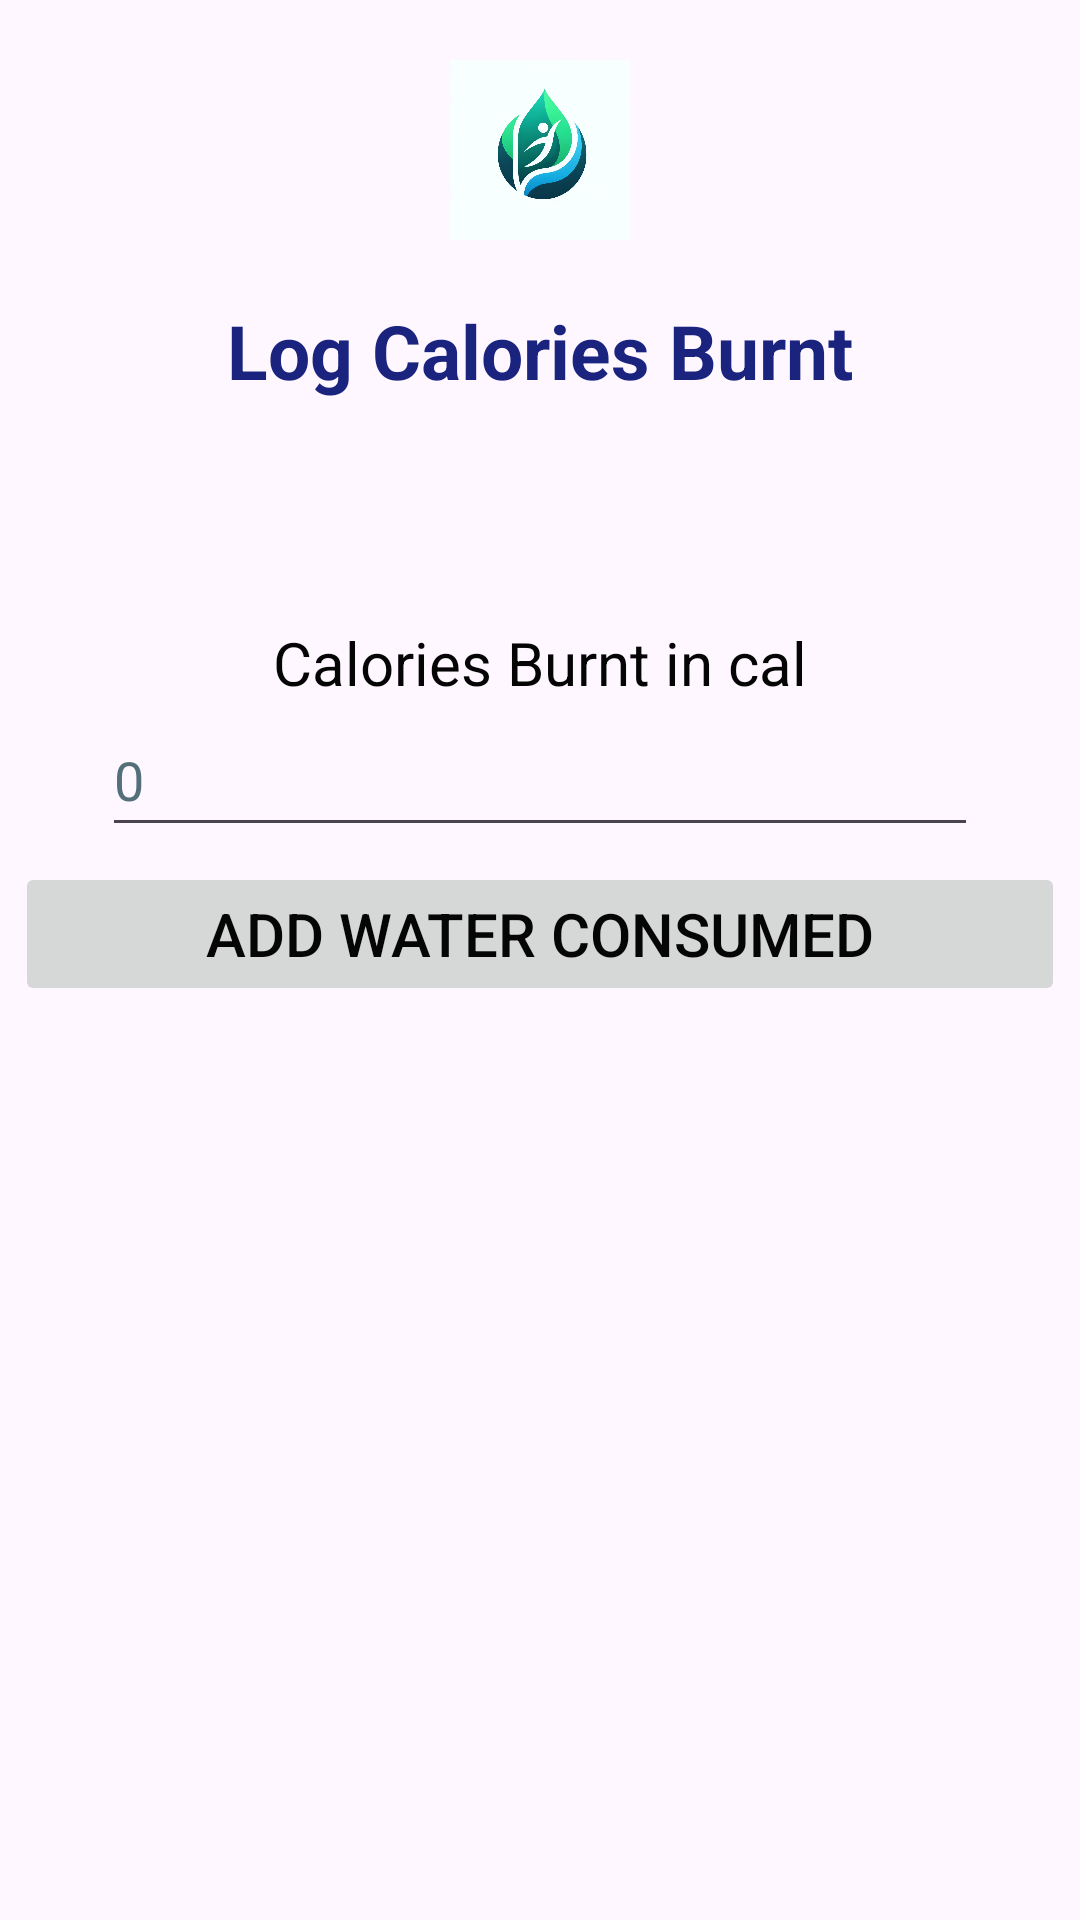

Named icons in this screenshot (1080 × 1920) and their centers, [x,y]:
app icon: [542,144]
